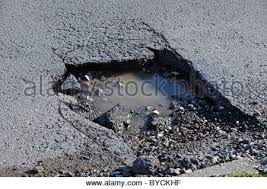pothole: (43, 41, 263, 158)
